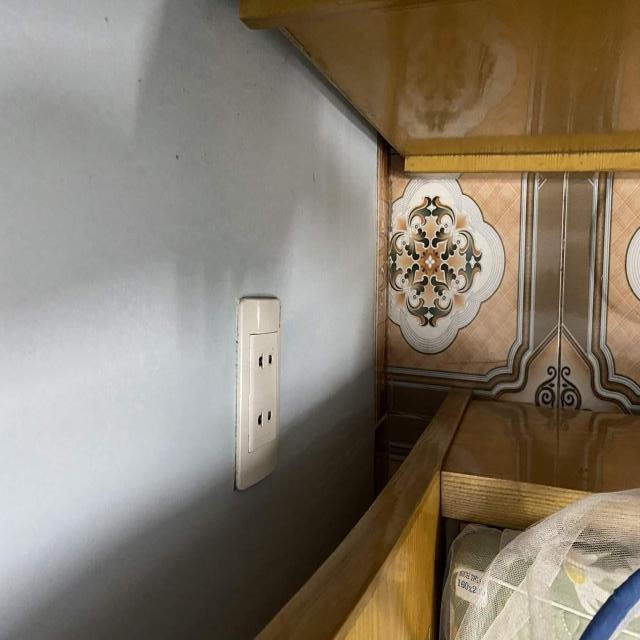outlet: (234, 297, 281, 491)
